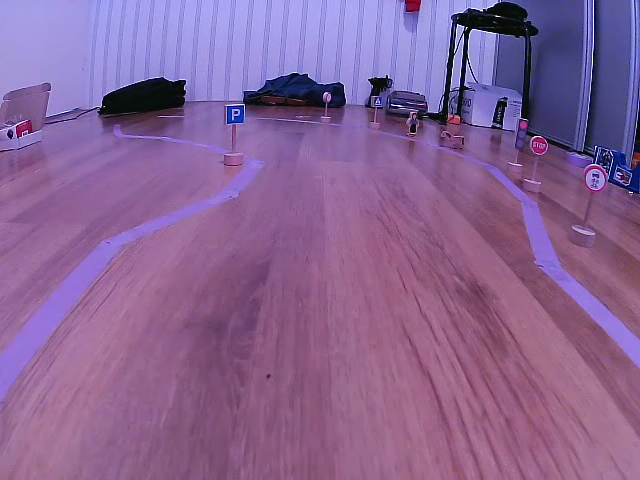fietspad: (583, 164, 607, 193)
mens: (407, 111, 419, 137)
paard: (441, 131, 465, 151)
parkeerbord: (225, 105, 246, 125)
roodlicht: (516, 117, 527, 150)
stopbord: (531, 135, 548, 156)
